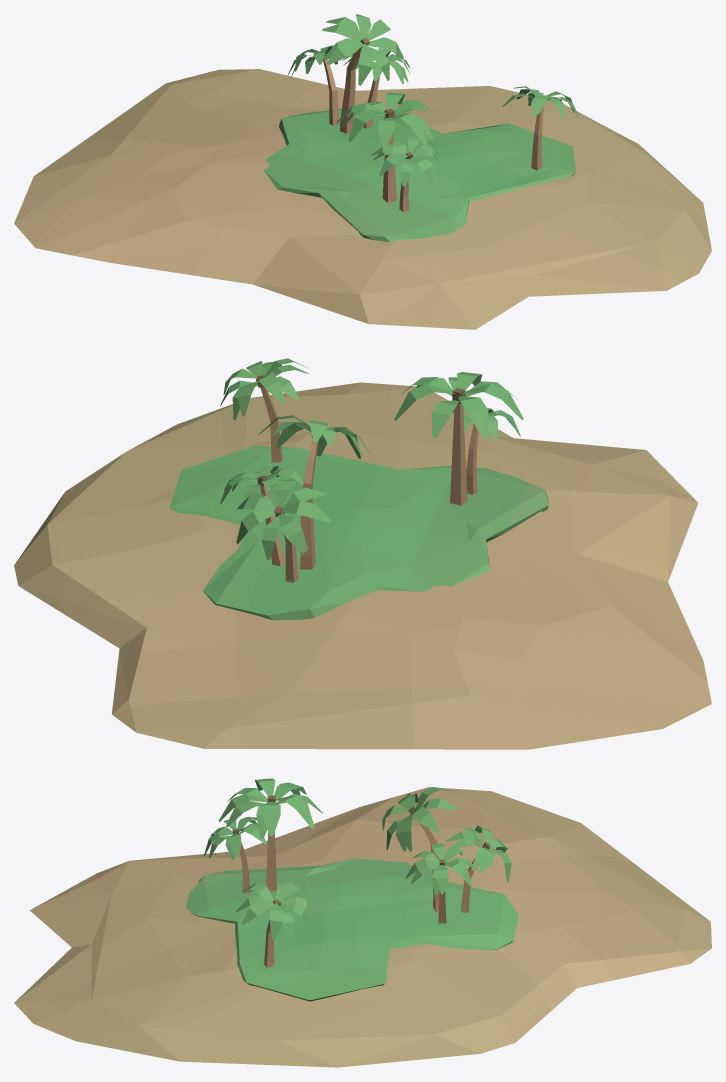
Rendered from simple.gltf.
3 renders of one model, top to bottom at view 1: azimuth 30°, elevation 25°; view 2: azimuth 150°, elevation 25°; view 3: azimuth 270°, elevation 25°, orthographic. The views are drawn at different scales.
Visible parts, largest first — view 1: islandMesh; view 2: islandMesh; view 3: islandMesh.
Boxes of the visible parts, x1,y1,x2,y2 form: islandMesh: (14, 14, 711, 329); islandMesh: (14, 358, 711, 749); islandMesh: (14, 778, 711, 1067).
Size of the model in its own units: 47.54 by 12.34 by 49.93.
Materials: 1 (1 with a texture image).
